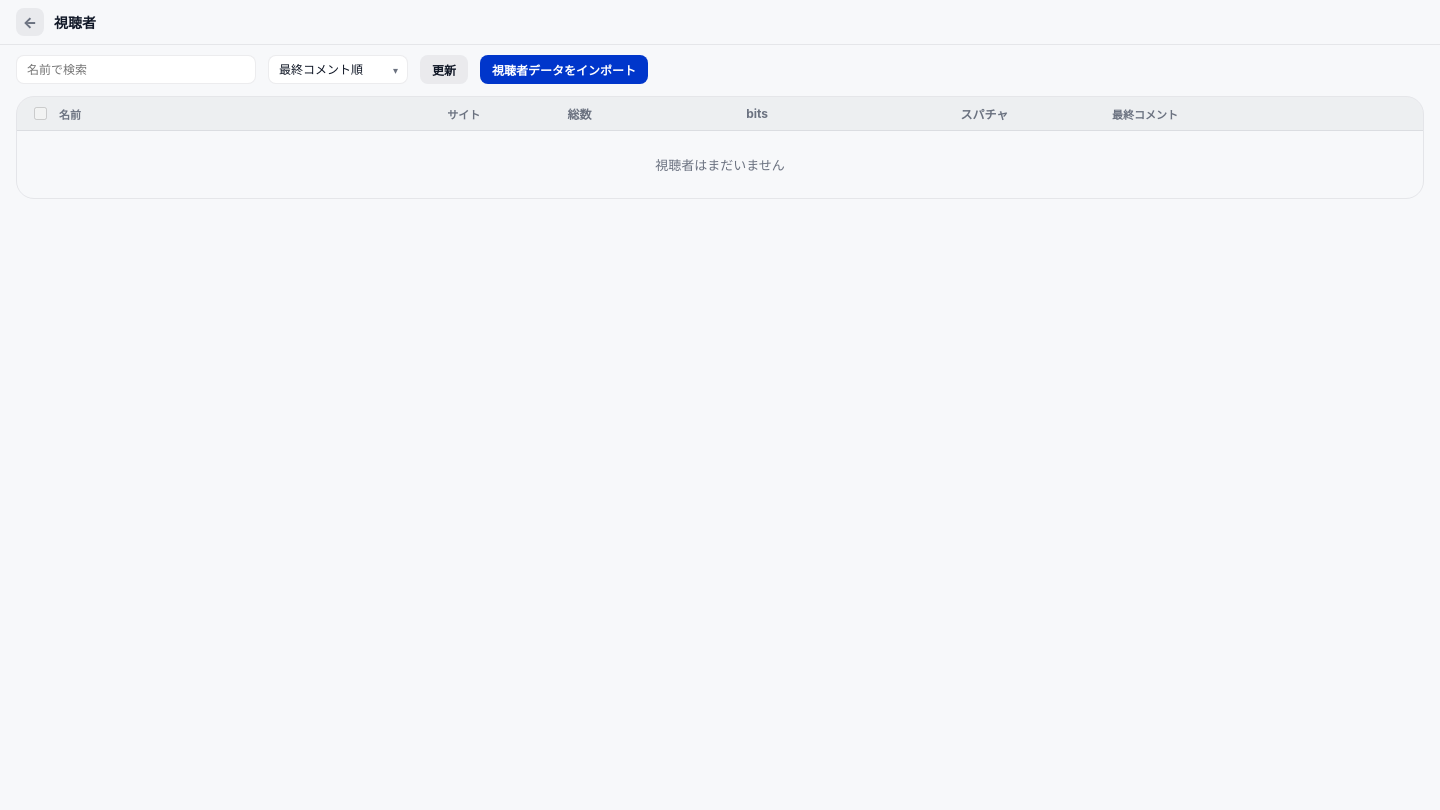
Test case: ViewersView 視聴者データ CSV のインポート（065b） › 確認ダイアログでキャンセルしたら何も起きない
Check: the text "視聴者はまだいません" is shown, box top-left (655, 157), bottom-right (785, 173)
Click the button "視聴者データをインポート" at (564, 70), box top-left (480, 55), bottom-right (648, 84)
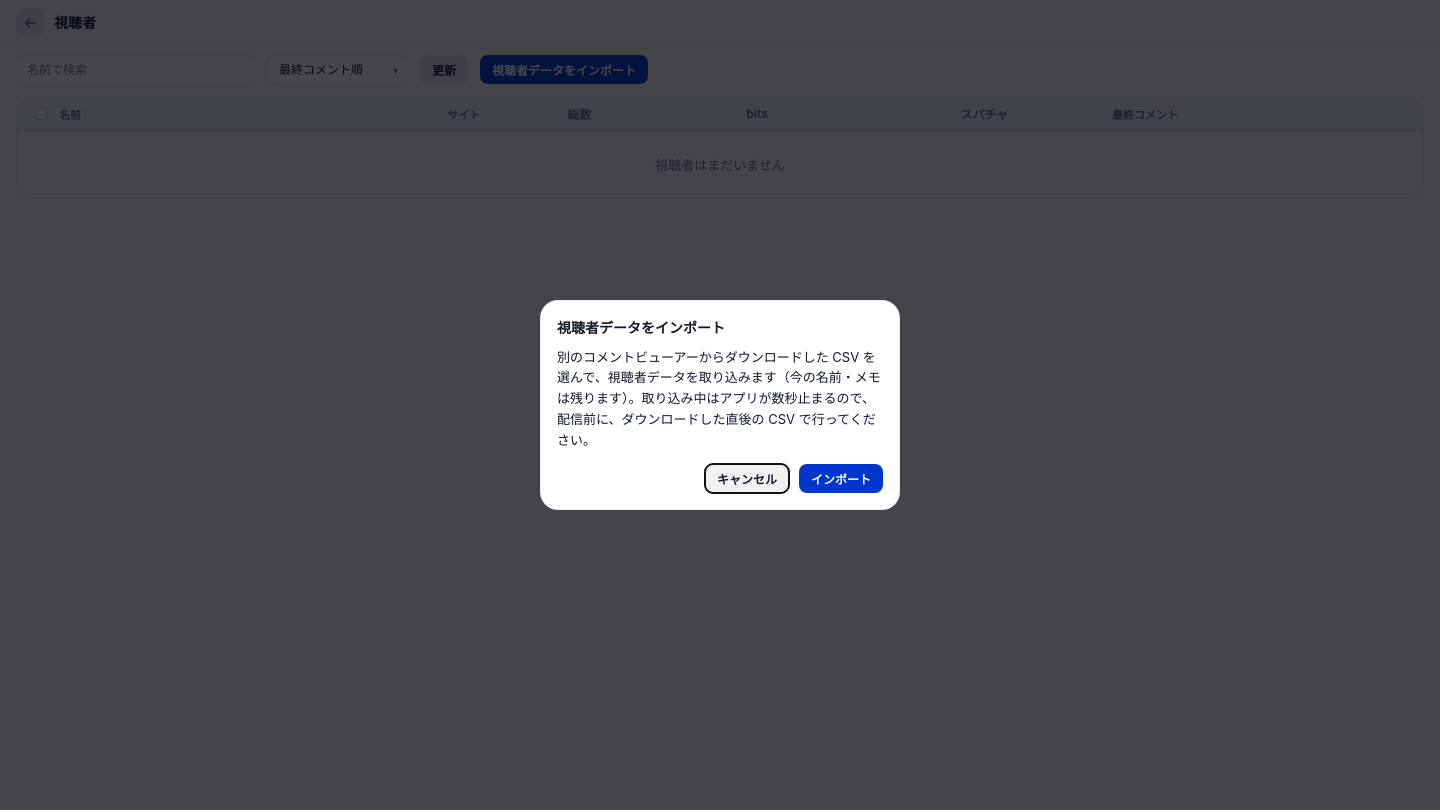
Click the button "キャンセル" at (747, 479), box top-left (705, 464), bottom-right (789, 494)
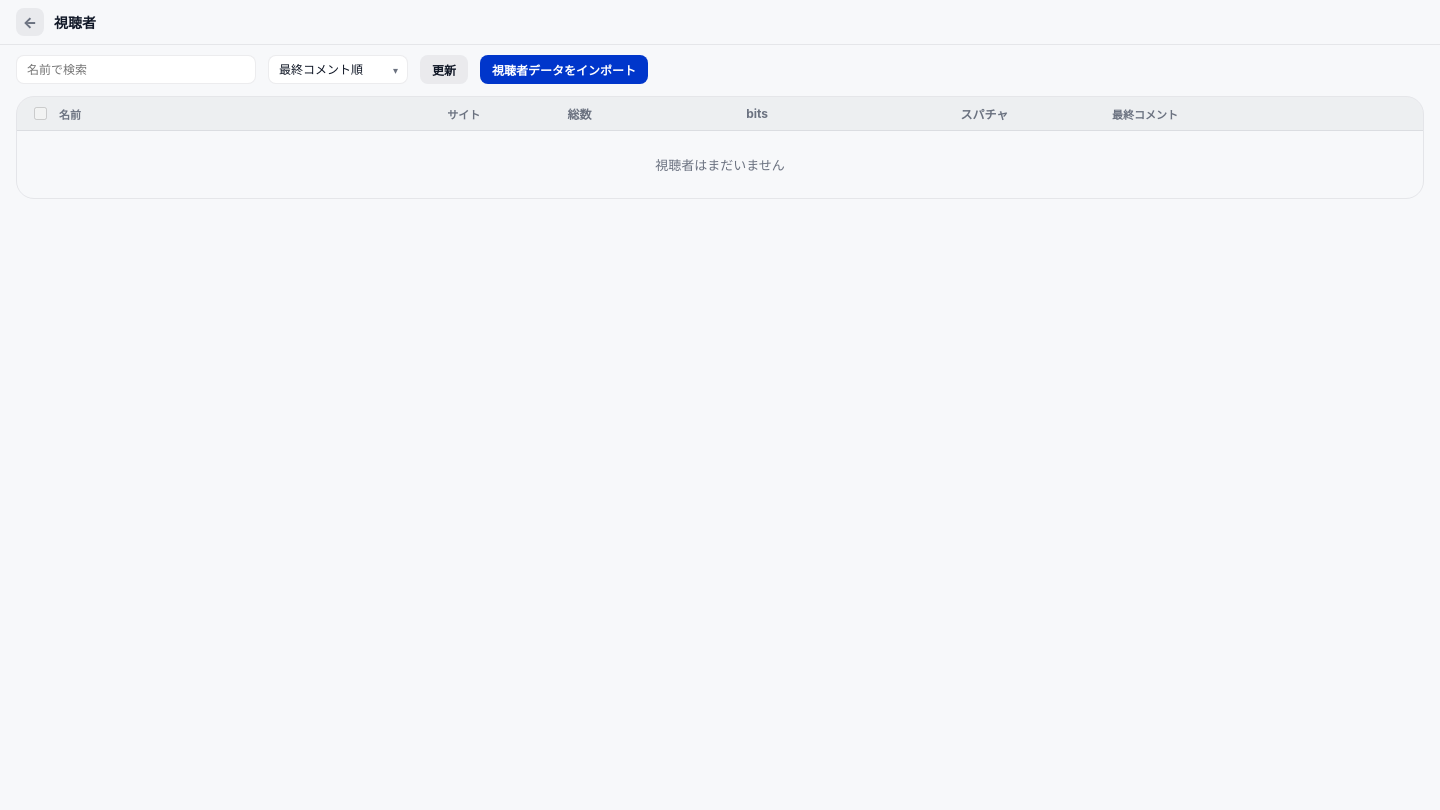
Check: the dialog is gone
